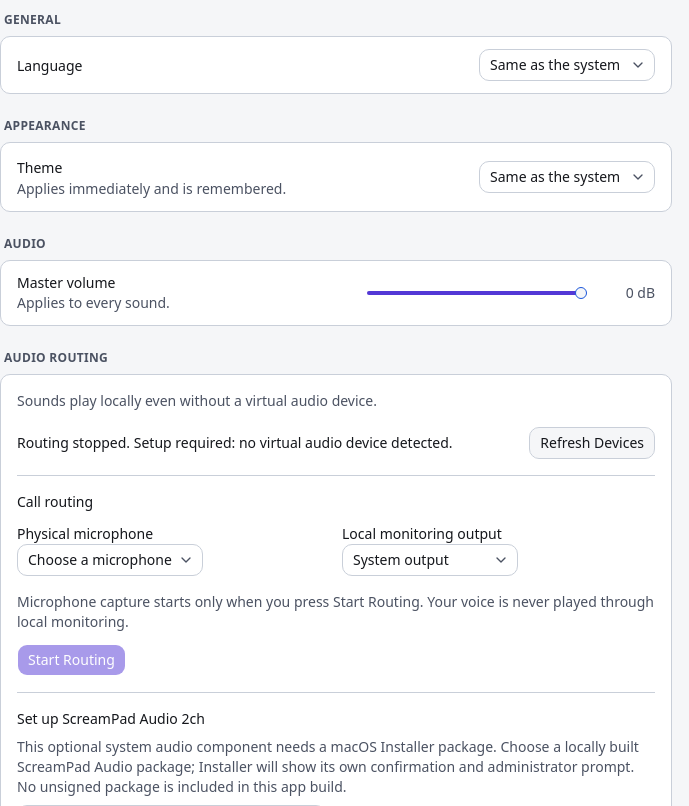
Test case: settings page › keeps the old language when the save fails
Step 1. Click the dropdown named "Language" → (567, 65), box [479,49,655,81]
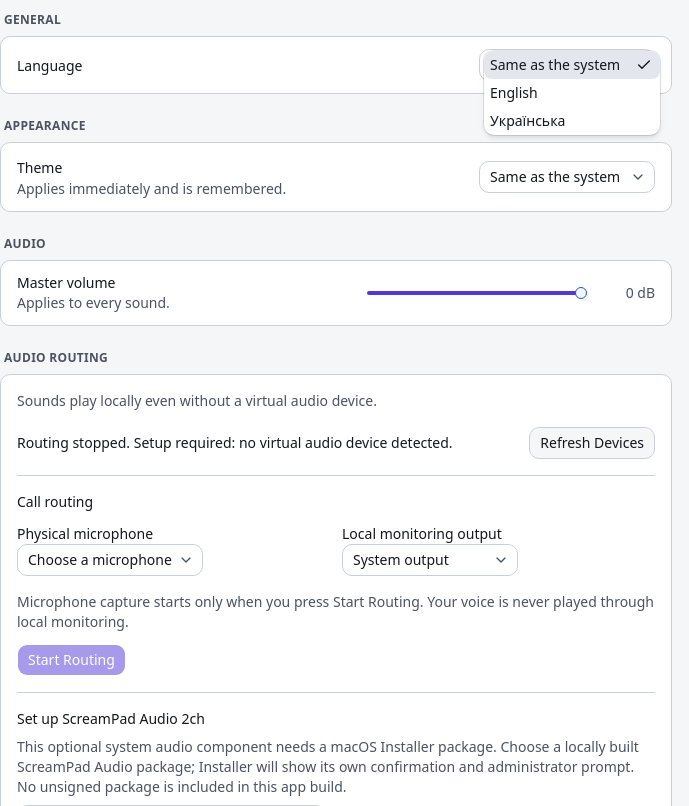
Step 2. Click the option "Українська" → (528, 120), box [490,111,565,130]
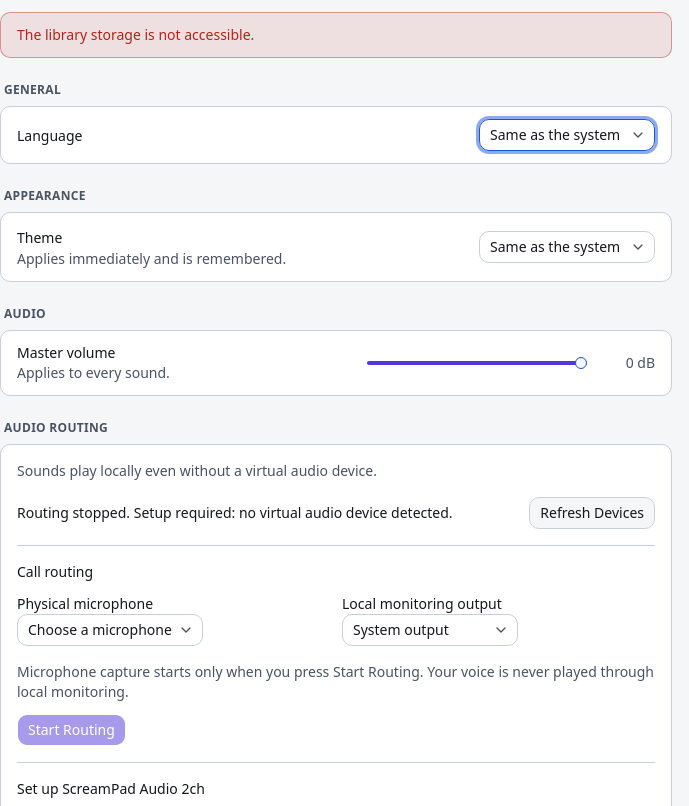
Check: the message "The library storage is not accessible." is shown, box [0,12,672,58]
